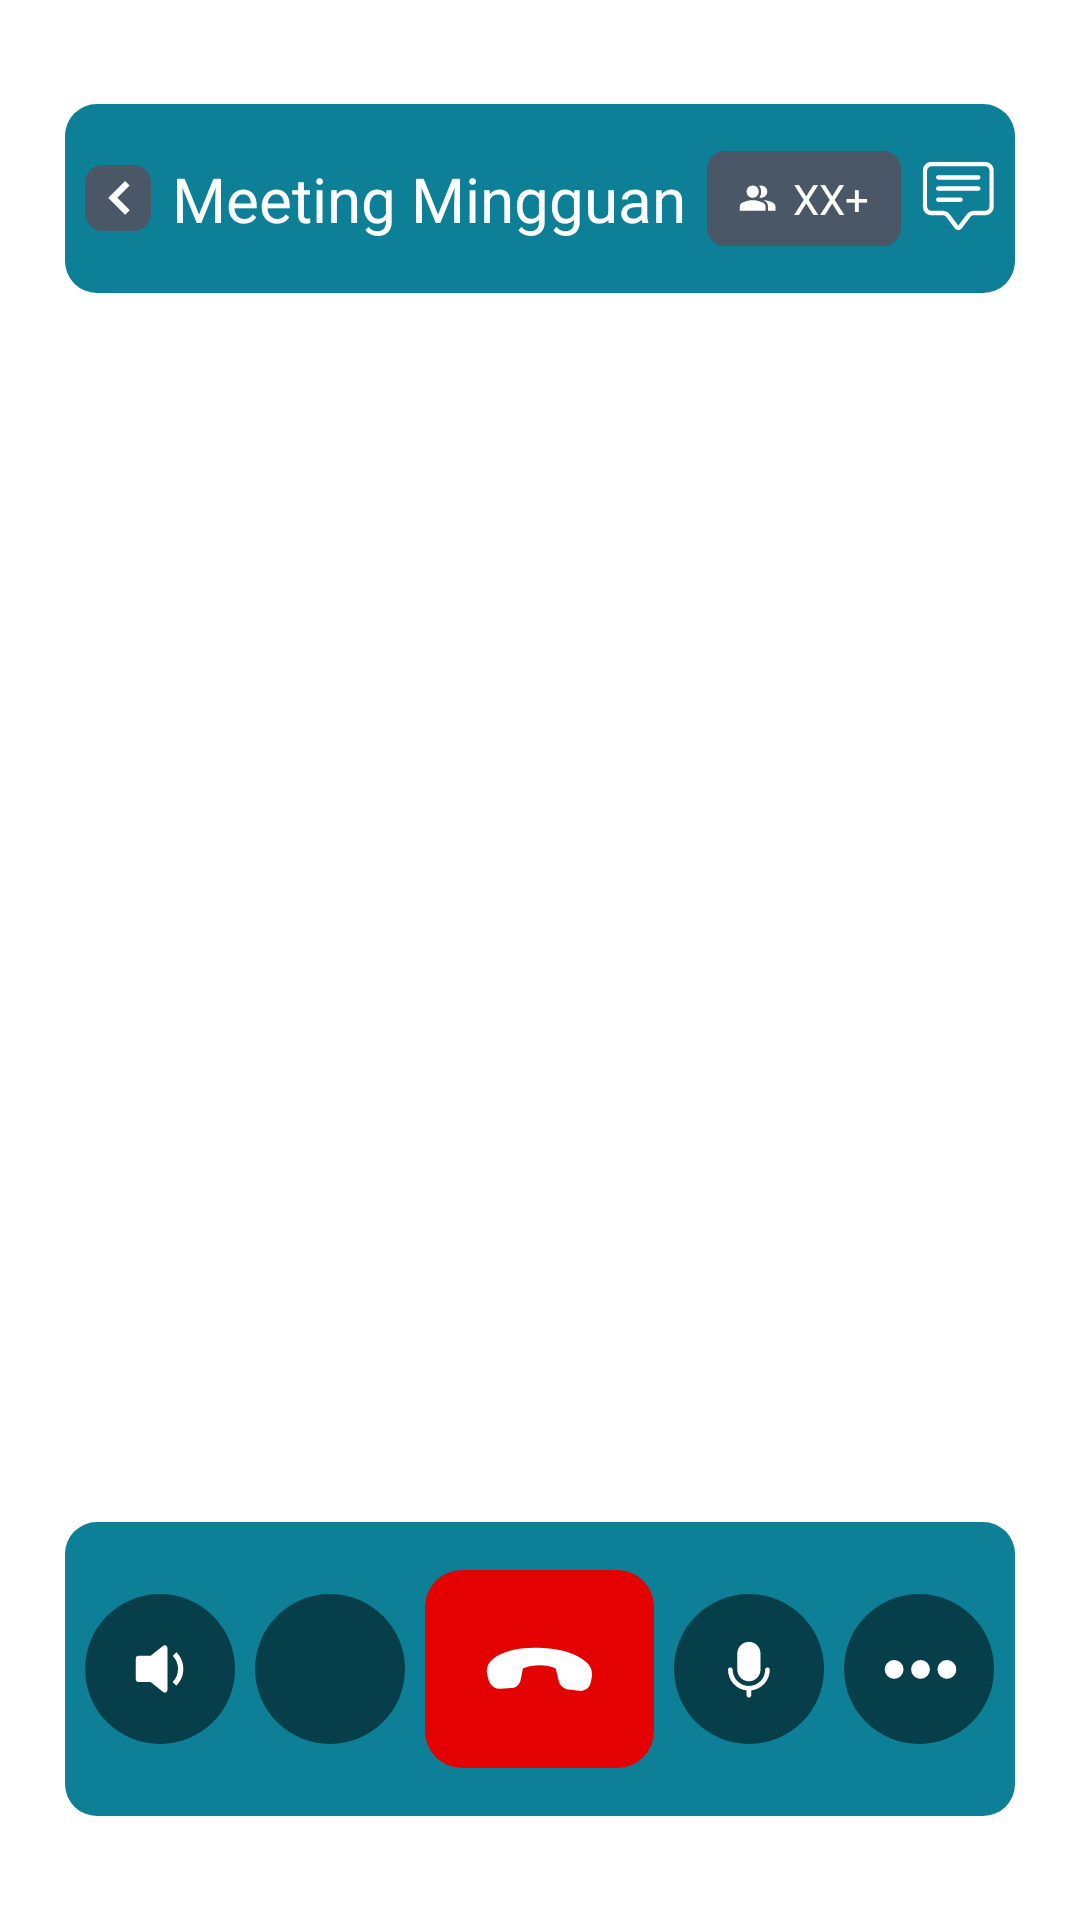

Icon bounding boxes for this 1080px×1920px phone screenshot, format [x1, y1, x2, y2]:
chat: [923, 162, 994, 230]
Icon Back: [85, 165, 151, 231]
mic: [674, 1594, 824, 1744]
other agora: [844, 1594, 994, 1744]
telephone hangup: [425, 1570, 654, 1768]
volume: [85, 1594, 235, 1744]
